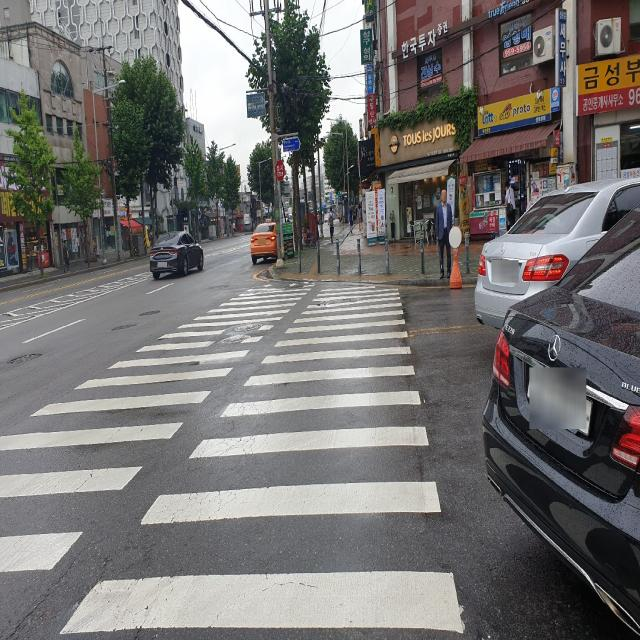횡단보도: (0, 282, 465, 637)
